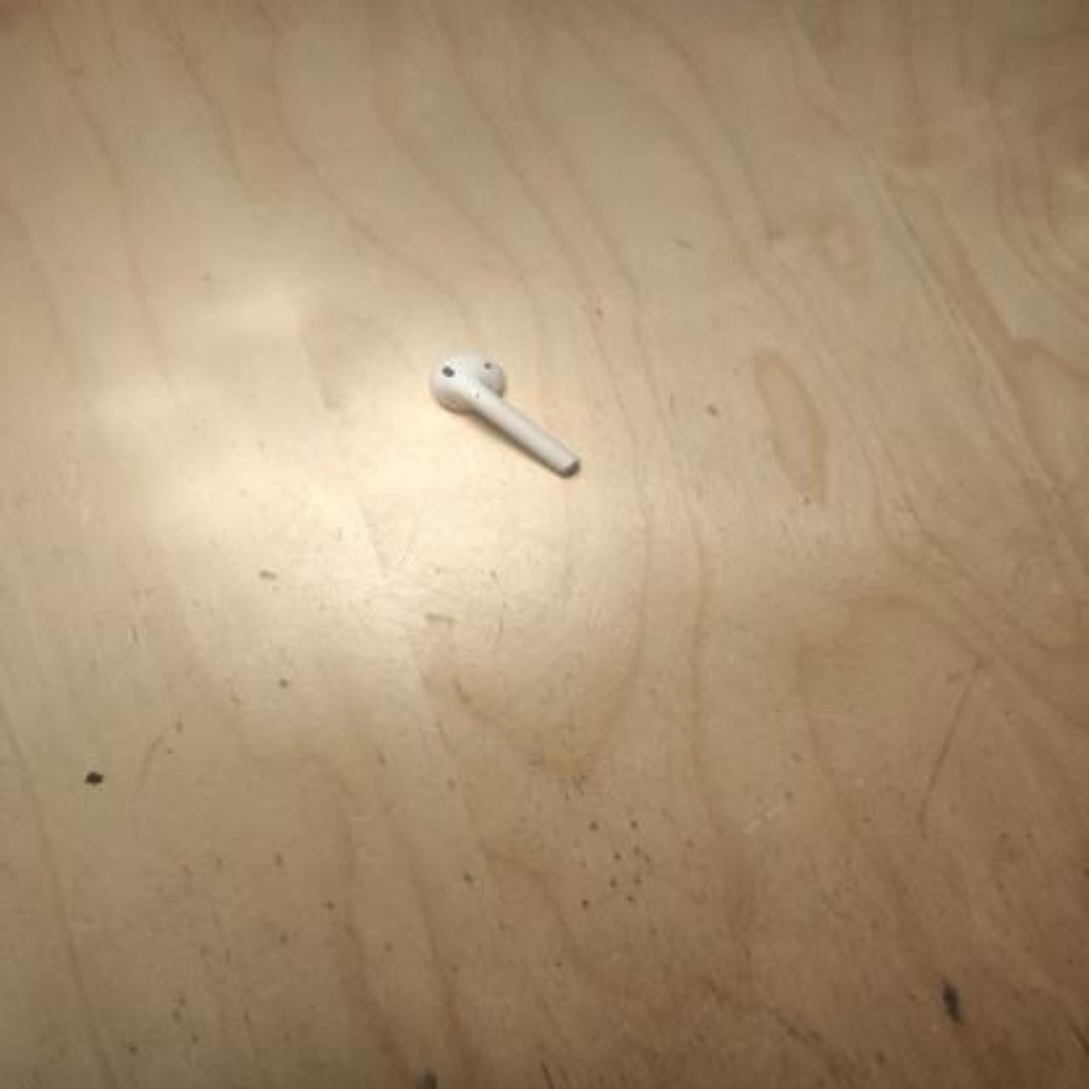Airpods_Units: (424, 353, 583, 473)
